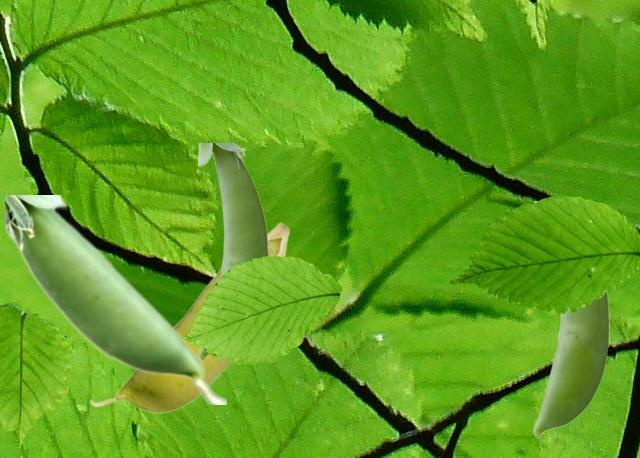pea: (5, 195, 225, 403), (89, 222, 289, 412), (533, 201, 608, 437), (198, 143, 267, 360)
